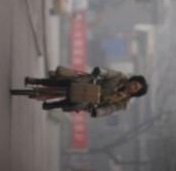person: (25, 61, 148, 118)
